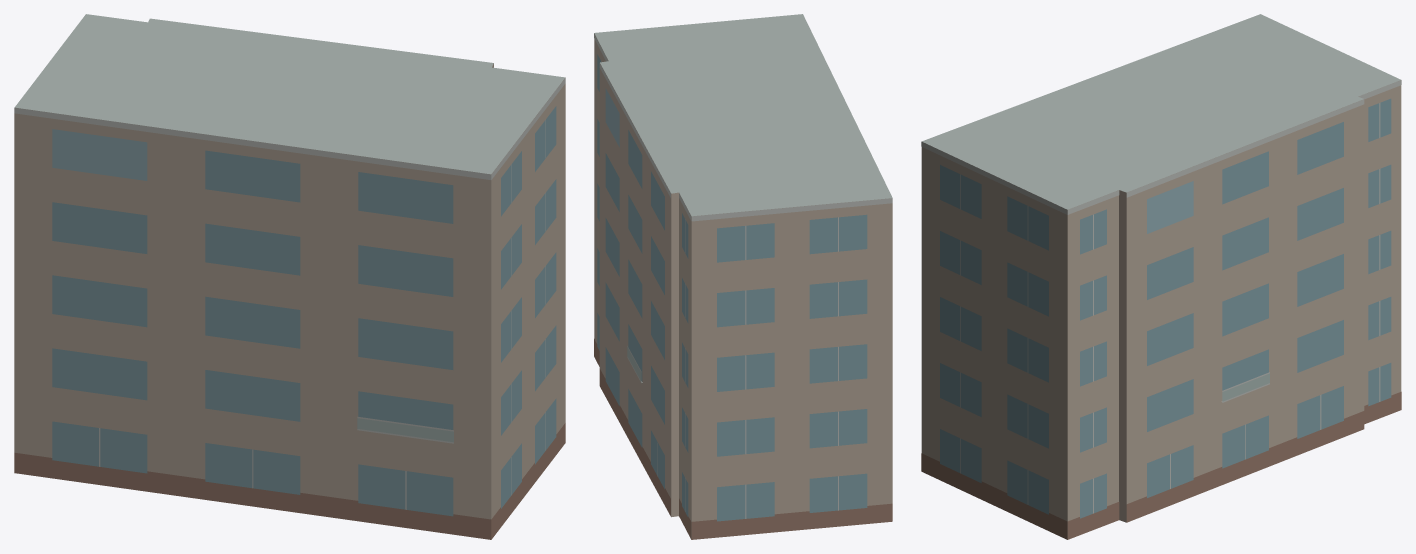
Rendered from survey-upis-32793355.glb.
The picture shows the model from 3 angles, left to right: view 1: azimuth 30°, elevation 25°; view 2: azimuth 150°, elevation 25°; view 3: azimuth 270°, elevation 25°; orthographic projection. The views are drawn at different scales.
Parts seen in each view (by area): view 1: survey-upis-32793355.tmp; view 2: survey-upis-32793355.tmp; view 3: survey-upis-32793355.tmp.
Boxes of the visible parts, <box> form: survey-upis-32793355.tmp: <box>14,14,565,539</box>; survey-upis-32793355.tmp: <box>594,14,892,539</box>; survey-upis-32793355.tmp: <box>921,14,1401,539</box>.
Size of the model in its own units: 19.41 by 15.26 by 20.11.
